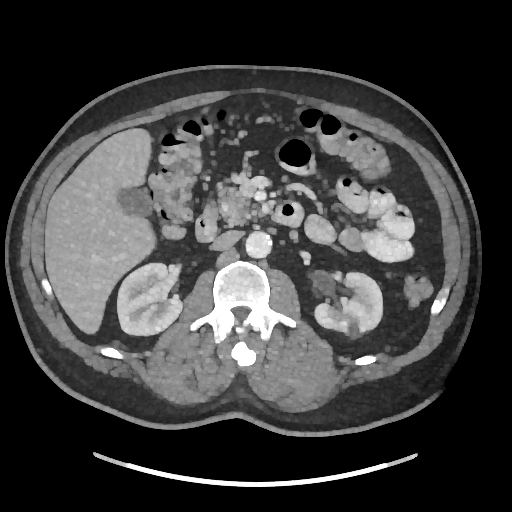Lesion: (346, 320, 363, 342)
